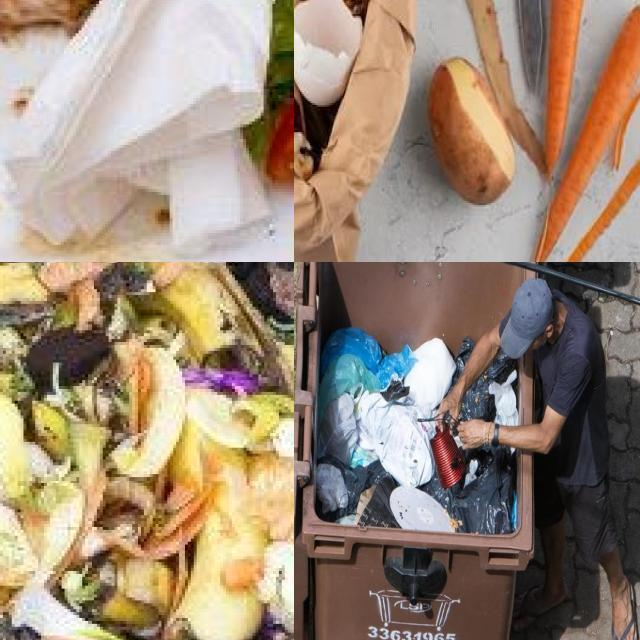Garbage: (0, 262, 294, 640), (316, 328, 515, 534), (458, 355, 518, 426)
Plastic: (430, 426, 466, 489)
Plastic_Bag: (424, 446, 515, 534), (355, 393, 433, 487), (320, 328, 417, 388), (316, 455, 389, 520), (319, 355, 381, 425), (405, 339, 456, 417), (460, 353, 515, 422), (317, 393, 359, 464), (390, 486, 453, 533), (488, 370, 519, 426), (316, 464, 349, 513), (453, 337, 475, 385)
